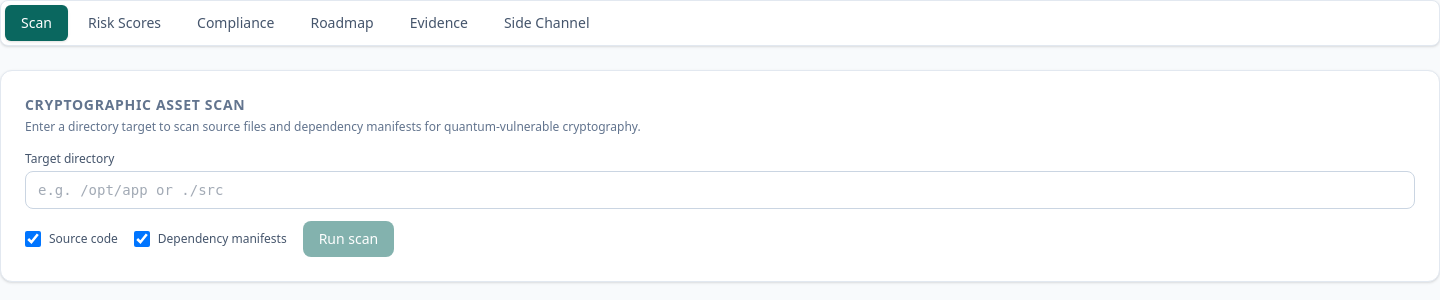
Test: ScannerDashboard › shows the scan tab by default and switches panels on tab activation
Expected: the tab "Scan" is shown, [5,5,68,41]
Expected: the heading "Cryptographic Asset Scan" is shown, [25,95,245,114]
Press the mouse on the tab "Risk Scores" at (124, 23), box [72,5,177,41]
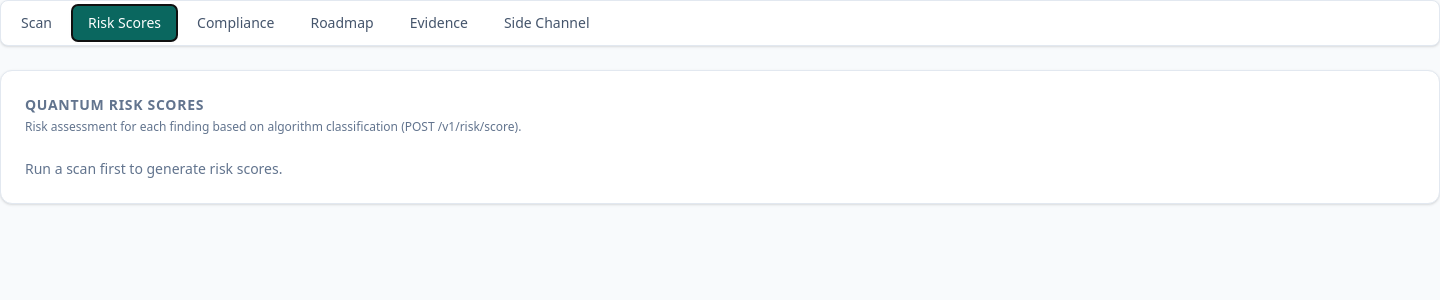
Now the heading "Quantum Risk Scores" is shown, box [25,95,204,114]
Now the heading "Cryptographic Asset Scan" is gone
Press the mouse on the tab "Evidence" at (439, 23), box [394,5,484,41]
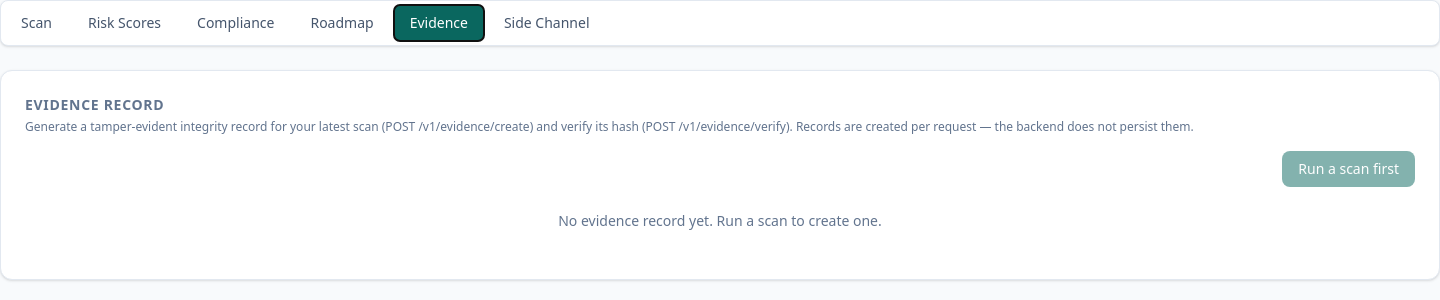
Now the heading "Evidence Record" is shown, box [25,95,164,114]
